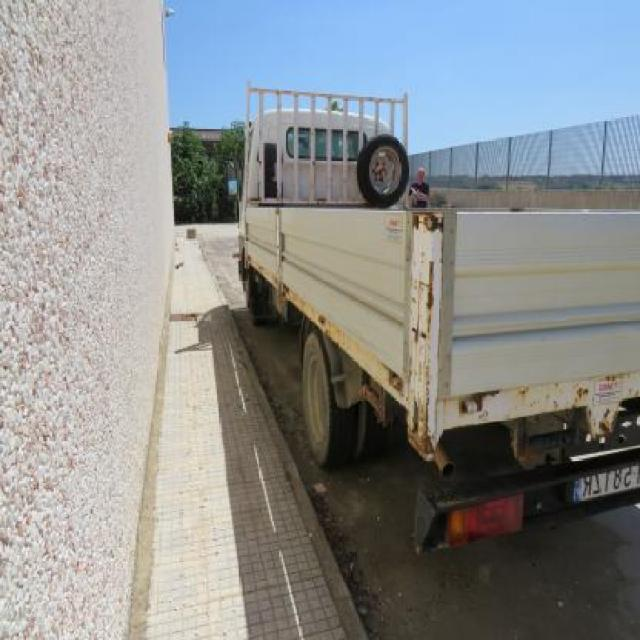truck: (239, 80, 640, 557)
